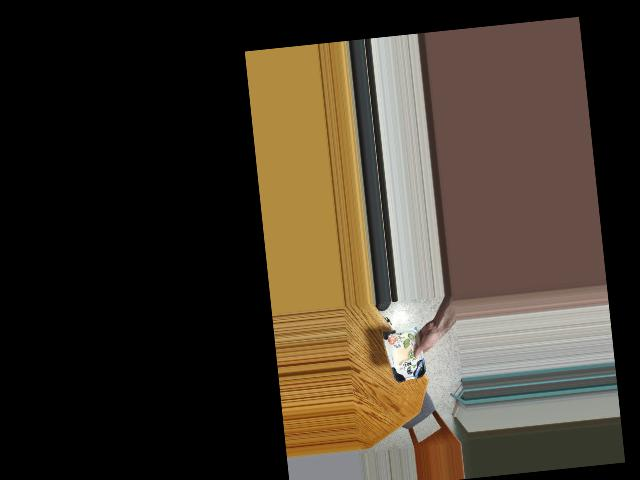cheese: (381, 325, 433, 381)
